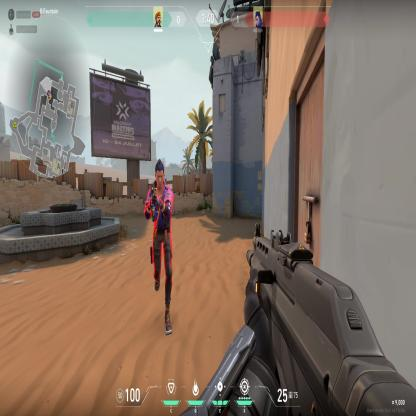enemy: (142, 156, 178, 338)
